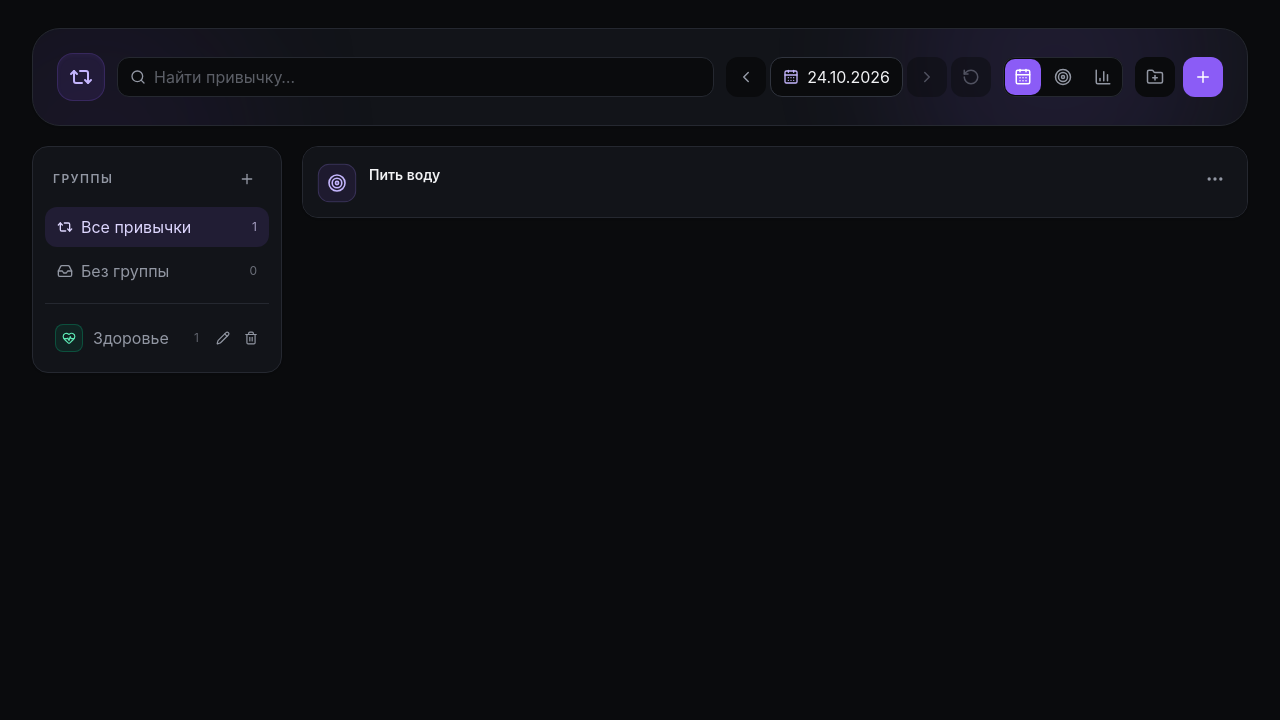
Test: HabitsPage › shows the habit cleanly and moves metadata into the details popover
Expected: the text "Пить воду" is shown, [369, 166, 440, 183]
Expected: the text "Каждый день" is not shown
Click the button named "Подробнее о привычке «Пить воду»" at (1215, 179), box [1197, 161, 1233, 197]
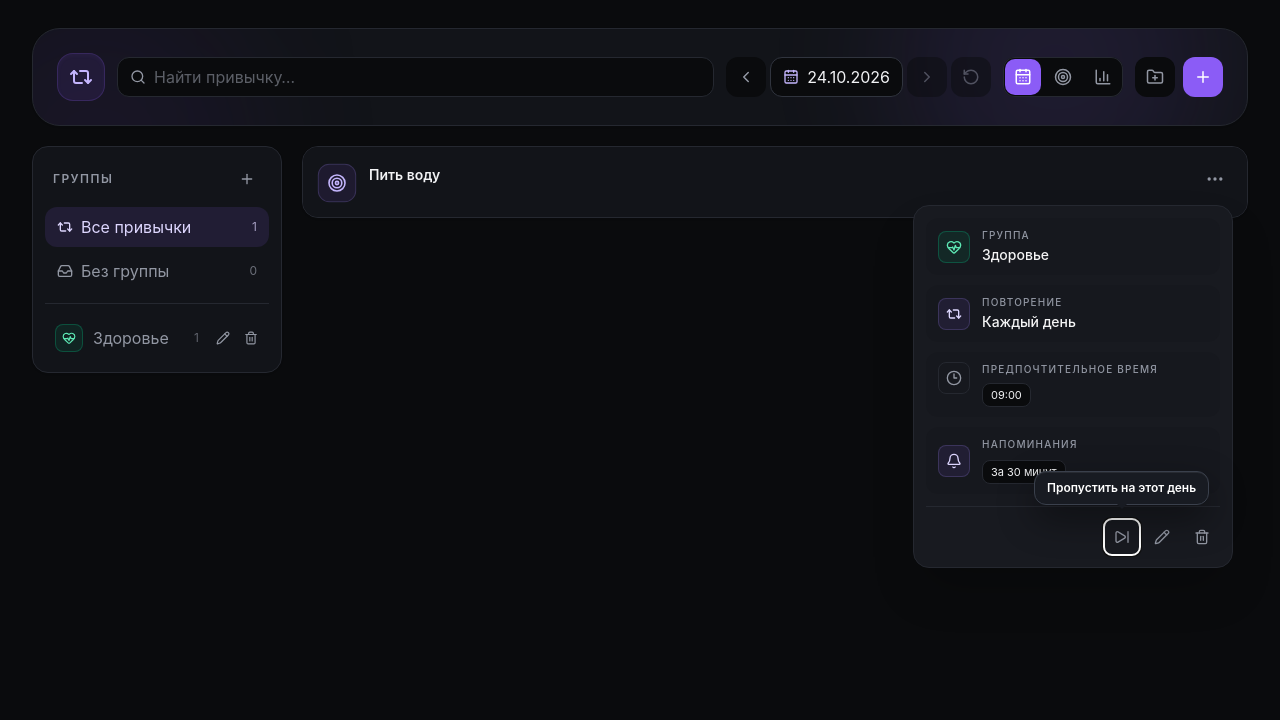
Expected: the dialog with test id "habit-details-popover" shows "Здоровье", [982, 246, 1049, 263]
Expected: the dialog with test id "habit-details-popover" shows "Каждый день", [982, 313, 1076, 330]
Expected: the dialog with test id "habit-details-popover" shows "09:00", [991, 388, 1022, 402]
